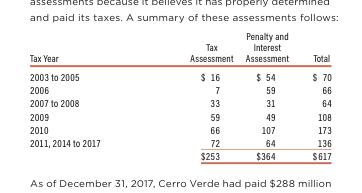table: (29, 28, 330, 162)
table column: (29, 28, 144, 162), (144, 28, 238, 162), (238, 28, 299, 162), (299, 28, 330, 162)
table column header: (29, 28, 330, 66)
table row: (29, 28, 330, 66), (29, 66, 330, 82), (29, 95, 330, 109), (29, 148, 330, 162), (29, 82, 330, 95), (29, 109, 330, 122), (29, 122, 330, 135), (29, 135, 330, 148)
